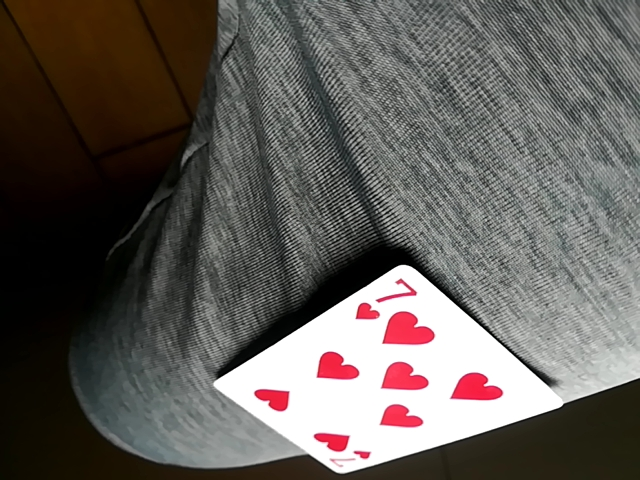hx 7: (209, 267, 561, 479)
